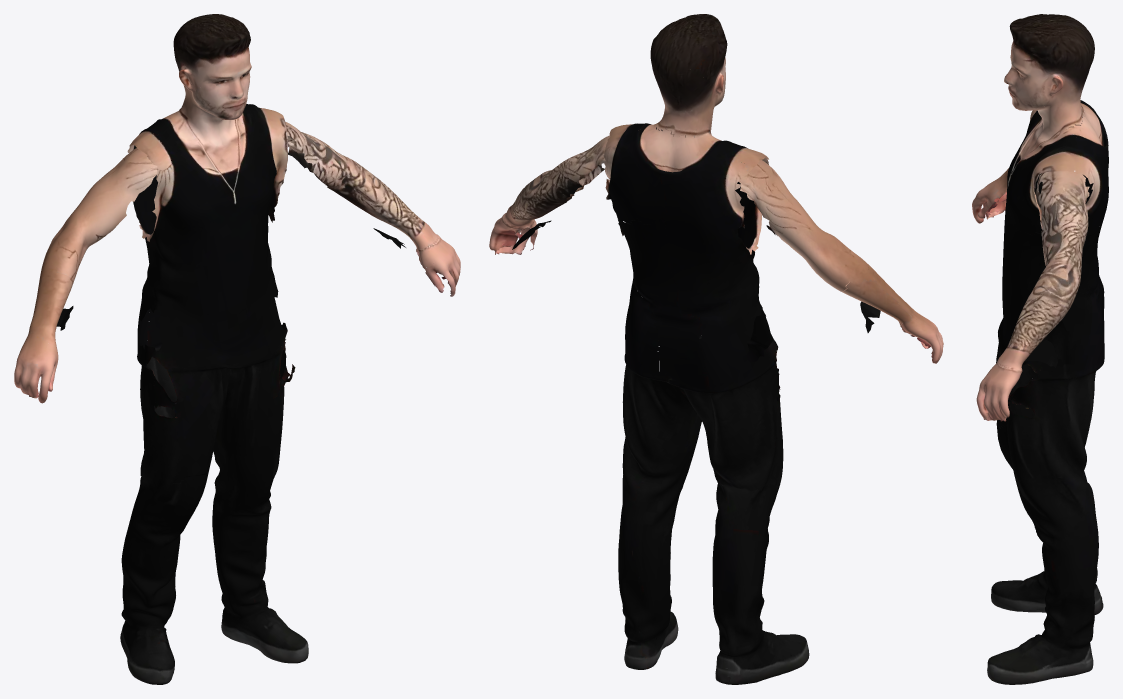
File: jay.fbx
3 renders of one model, left to right at view 1: azimuth 30°, elevation 25°; view 2: azimuth 150°, elevation 25°; view 3: azimuth 270°, elevation 25°, orthographic.
Parts seen in each view (by area): view 1: model; view 2: model; view 3: model.
Boxes of the visible parts, x1=… form: model: x1=14, y1=14, x2=460, y2=684; model: x1=489, y1=14, x2=943, y2=684; model: x1=972, y1=14, x2=1108, y2=684.
Bounding box in the file's own units: 1.41 × 1.91 × 0.3756.
1 material, 1 textured.
